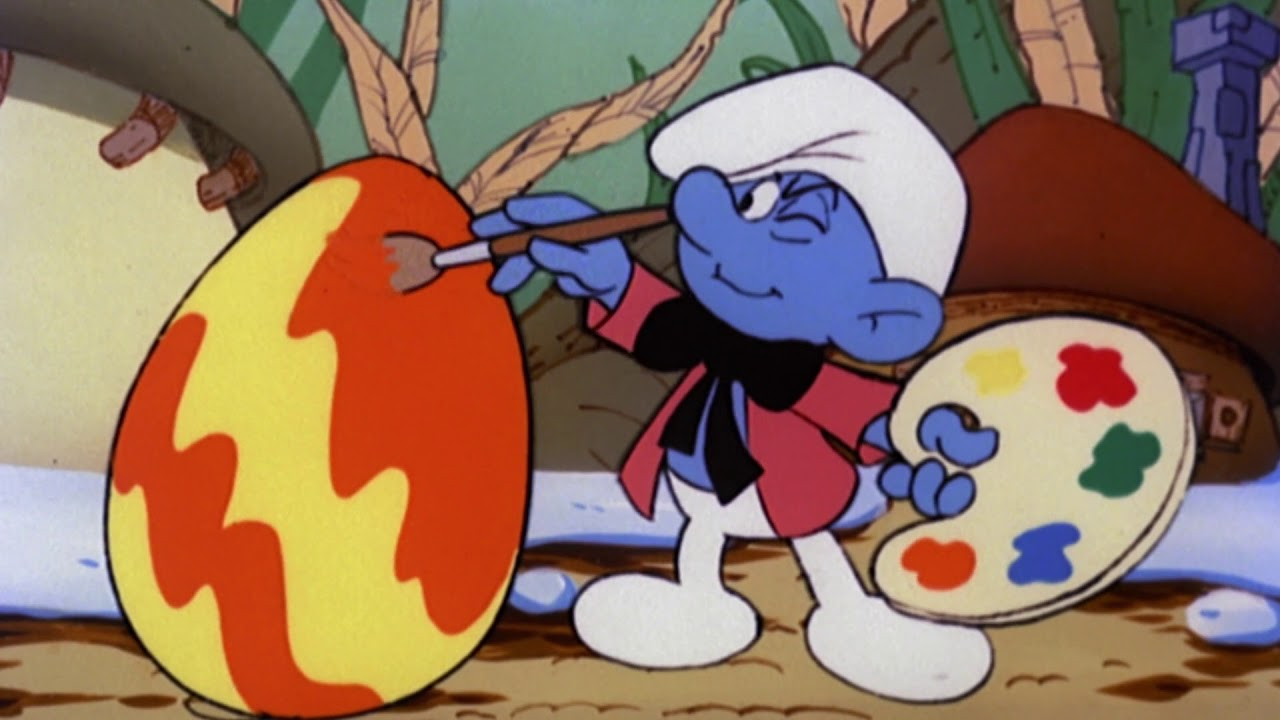smurf: (473, 64, 1002, 706)
